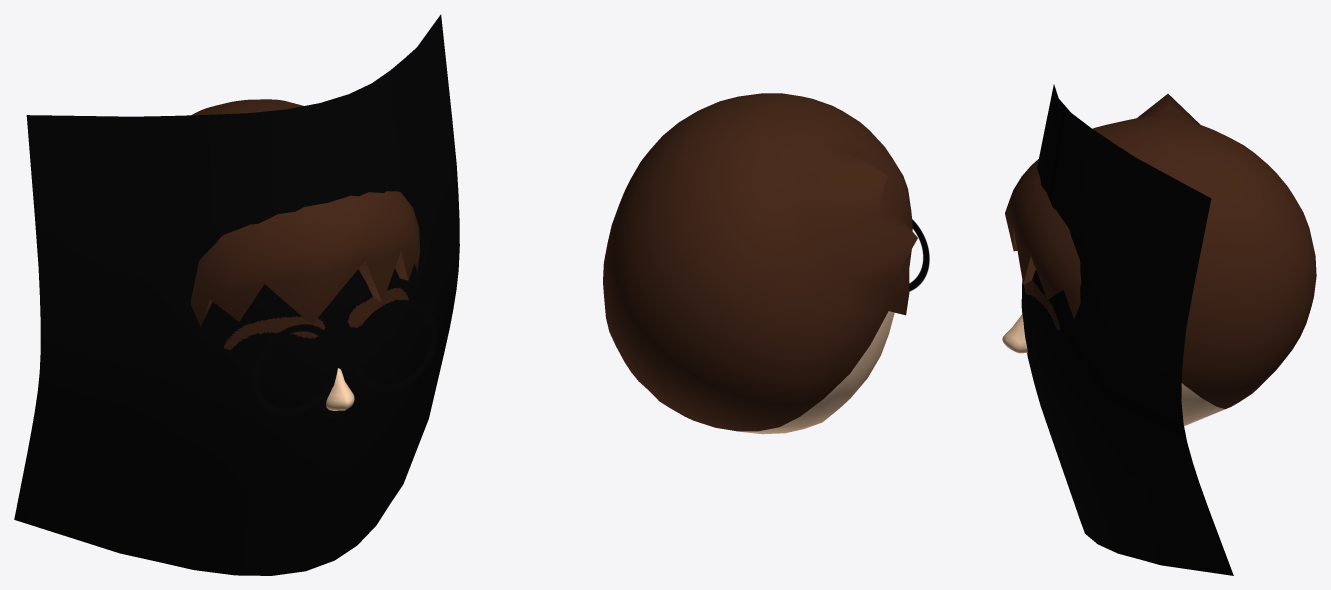
The model's file is avatar_head.glb.
The picture shows the model from 3 angles, left to right: view 1: azimuth 30°, elevation 25°; view 2: azimuth 150°, elevation 25°; view 3: azimuth 270°, elevation 25°; orthographic projection. The views are drawn at different scales.
Parts seen in each view (by area): view 1: face_mask, hair, glasses, nose; view 2: hair, face; view 3: face_mask, hair, face, nose.
Part boxes in pixels (x1,y1,x2,y2): face_mask: [14, 14, 459, 575]; hair: [191, 99, 419, 326]; glasses: [252, 300, 437, 415]; nose: [326, 368, 354, 410]; hair: [603, 93, 917, 431]; face: [738, 311, 894, 434]; face_mask: [1021, 84, 1233, 575]; hair: [1005, 94, 1316, 409]; face: [1181, 383, 1224, 425]; nose: [1002, 314, 1027, 353].
Size of the model in its own units: 91.85 by 100 by 65.38.
Materials: 6 (3 with a texture image).
